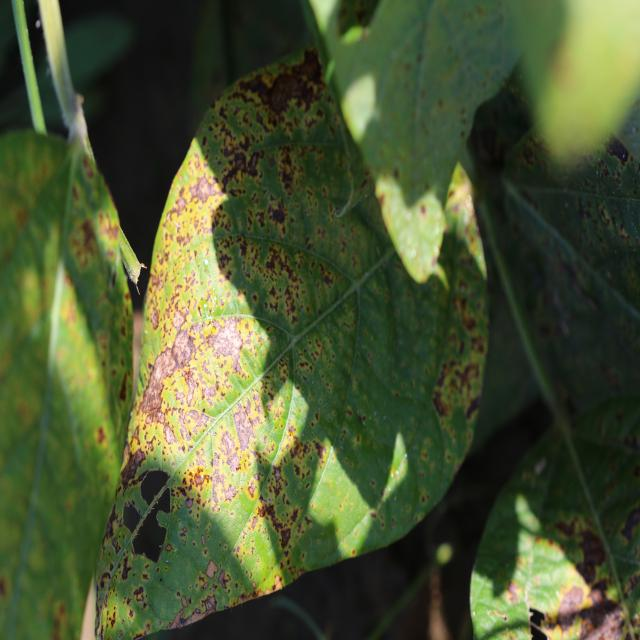Bacterial_Blight: (142, 342, 200, 422), (257, 49, 326, 112), (553, 515, 610, 583), (257, 238, 307, 298), (438, 356, 481, 414), (132, 504, 169, 563), (276, 433, 315, 486), (209, 202, 242, 258), (70, 213, 100, 270), (227, 402, 259, 455), (452, 293, 482, 341), (220, 151, 250, 187), (121, 447, 146, 488), (177, 601, 211, 627), (214, 470, 240, 504), (605, 136, 632, 167), (195, 175, 217, 204), (268, 199, 287, 226), (432, 390, 448, 417), (505, 580, 522, 604), (255, 499, 274, 519), (119, 371, 129, 403), (172, 309, 186, 330), (279, 526, 291, 547), (205, 559, 218, 578), (150, 308, 160, 329), (273, 466, 283, 481)
Soybean: (96, 49, 488, 638)
